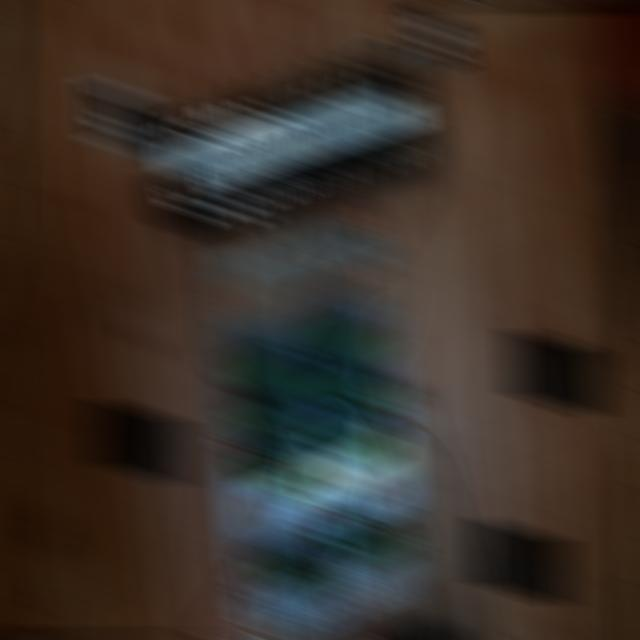Phillips_Block: (130, 47, 449, 230)
Terminal_1: (253, 538, 341, 599), (323, 508, 409, 570)
Terminal_2: (236, 439, 320, 496), (231, 391, 315, 447), (316, 412, 397, 468), (306, 315, 386, 369), (312, 364, 391, 418)
